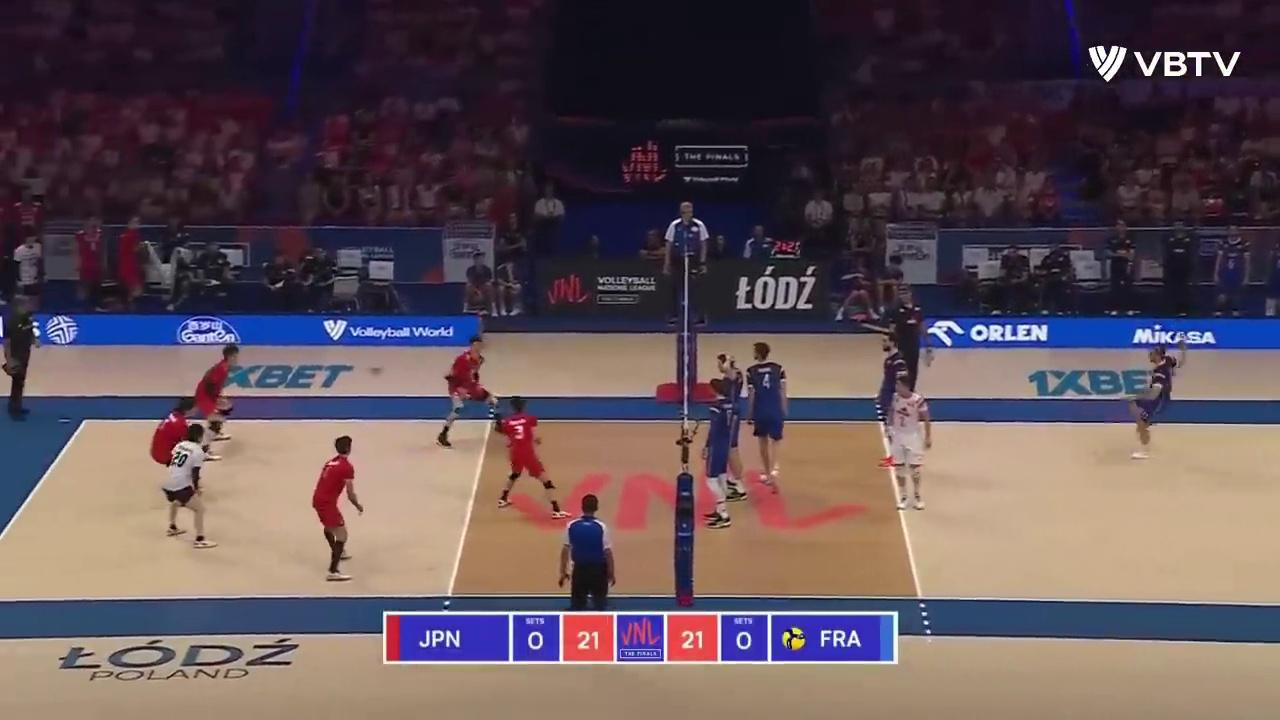ball: (368, 363, 385, 376)
